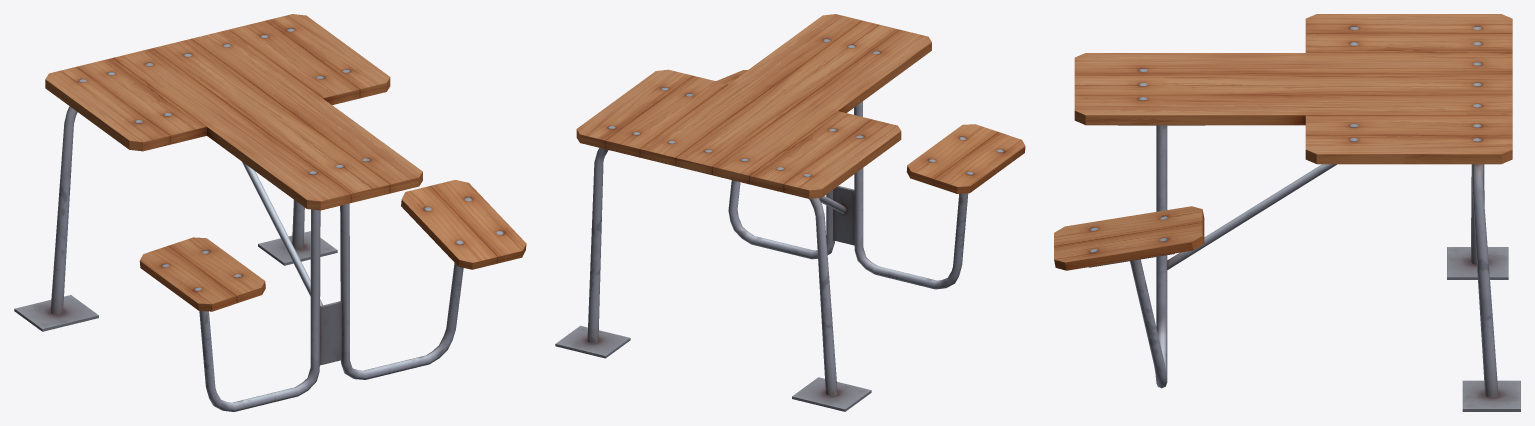
Rendered from Table04.FBX.
3 views of the same model, side by side, from view 1: azimuth 30°, elevation 25°; view 2: azimuth 150°, elevation 25°; view 3: azimuth 270°, elevation 25° (orthographic). The views are drawn at different scales.
Visible parts, largest first — view 1: Table04; view 2: Table04; view 3: Table04.
Boxes of the visible parts, x1,y1,x2,y2 form: Table04: (14, 14, 526, 411); Table04: (555, 14, 1025, 411); Table04: (1054, 14, 1520, 411).
Size of what is drawn, in the model's own units: 1.08 by 0.7502 by 1.27.
